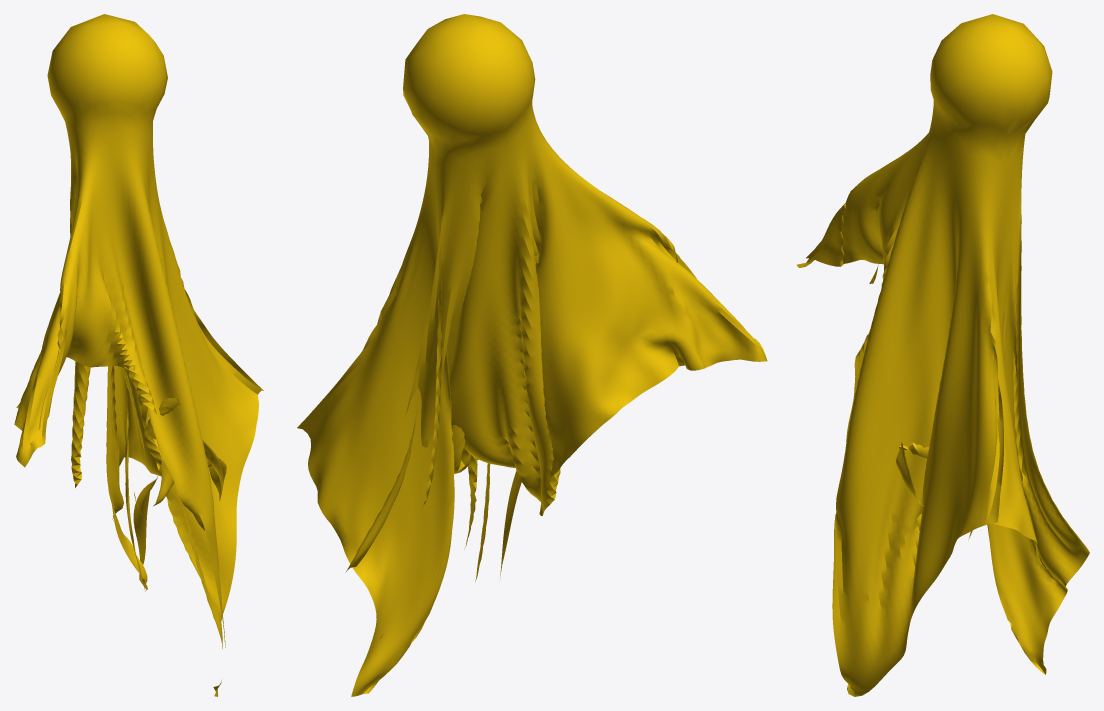
The model's file is velluto.gltf.
3 renders of one model, left to right at view 1: azimuth 30°, elevation 25°; view 2: azimuth 150°, elevation 25°; view 3: azimuth 270°, elevation 25°, orthographic. The views are drawn at different scales.
Visible parts, largest first — view 1: Subdivision Surface.2; view 2: Subdivision Surface.2; view 3: Subdivision Surface.2.
Boxes of the visible parts, box(x1,y1,x2,y2) form: Subdivision Surface.2: box(14, 14, 263, 696); Subdivision Surface.2: box(297, 14, 767, 696); Subdivision Surface.2: box(797, 14, 1089, 696).
Size of the model in its own units: 667 by 1207 by 493.
